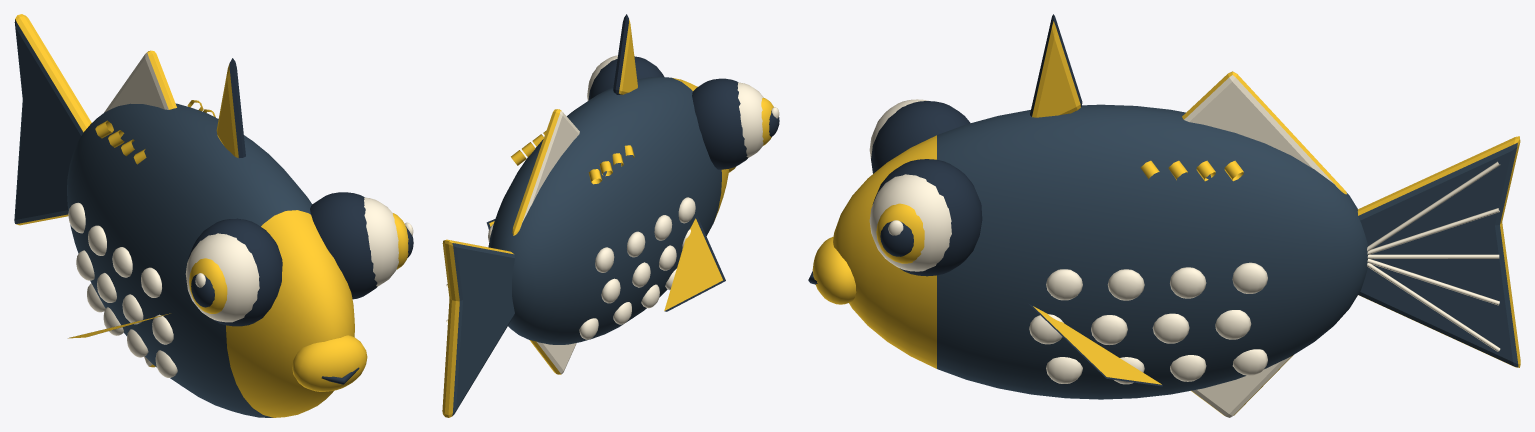
File: triggerfish.glb
3 renders of one model, left to right at view 1: azimuth 30°, elevation 25°; view 2: azimuth 150°, elevation 25°; view 3: azimuth 270°, elevation 25°, orthographic. The views are drawn at different scales.
Visible parts, largest first — view 1: BodyMesh, TailMesh; view 2: BodyMesh, TailMesh; view 3: BodyMesh, TailMesh.
Part boxes in pixels (<box>): BodyMesh: <box>67,50,413,417</box>; TailMesh: <box>14,14,91,225</box>; BodyMesh: <box>486,14,779,374</box>; TailMesh: <box>442,239,514,417</box>; BodyMesh: <box>808,14,1367,417</box>; TailMesh: <box>1357,136,1520,367</box>.
Size of the model in its own units: 1.28 by 1.59 by 2.54.
